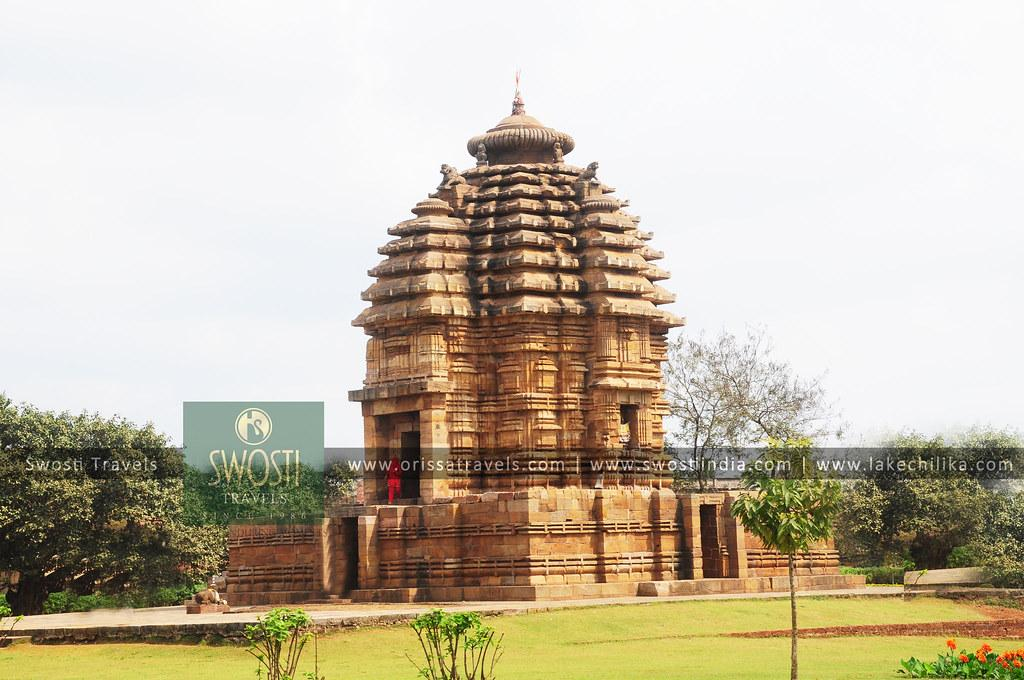temple: (208, 68, 859, 606), (347, 69, 688, 506)
